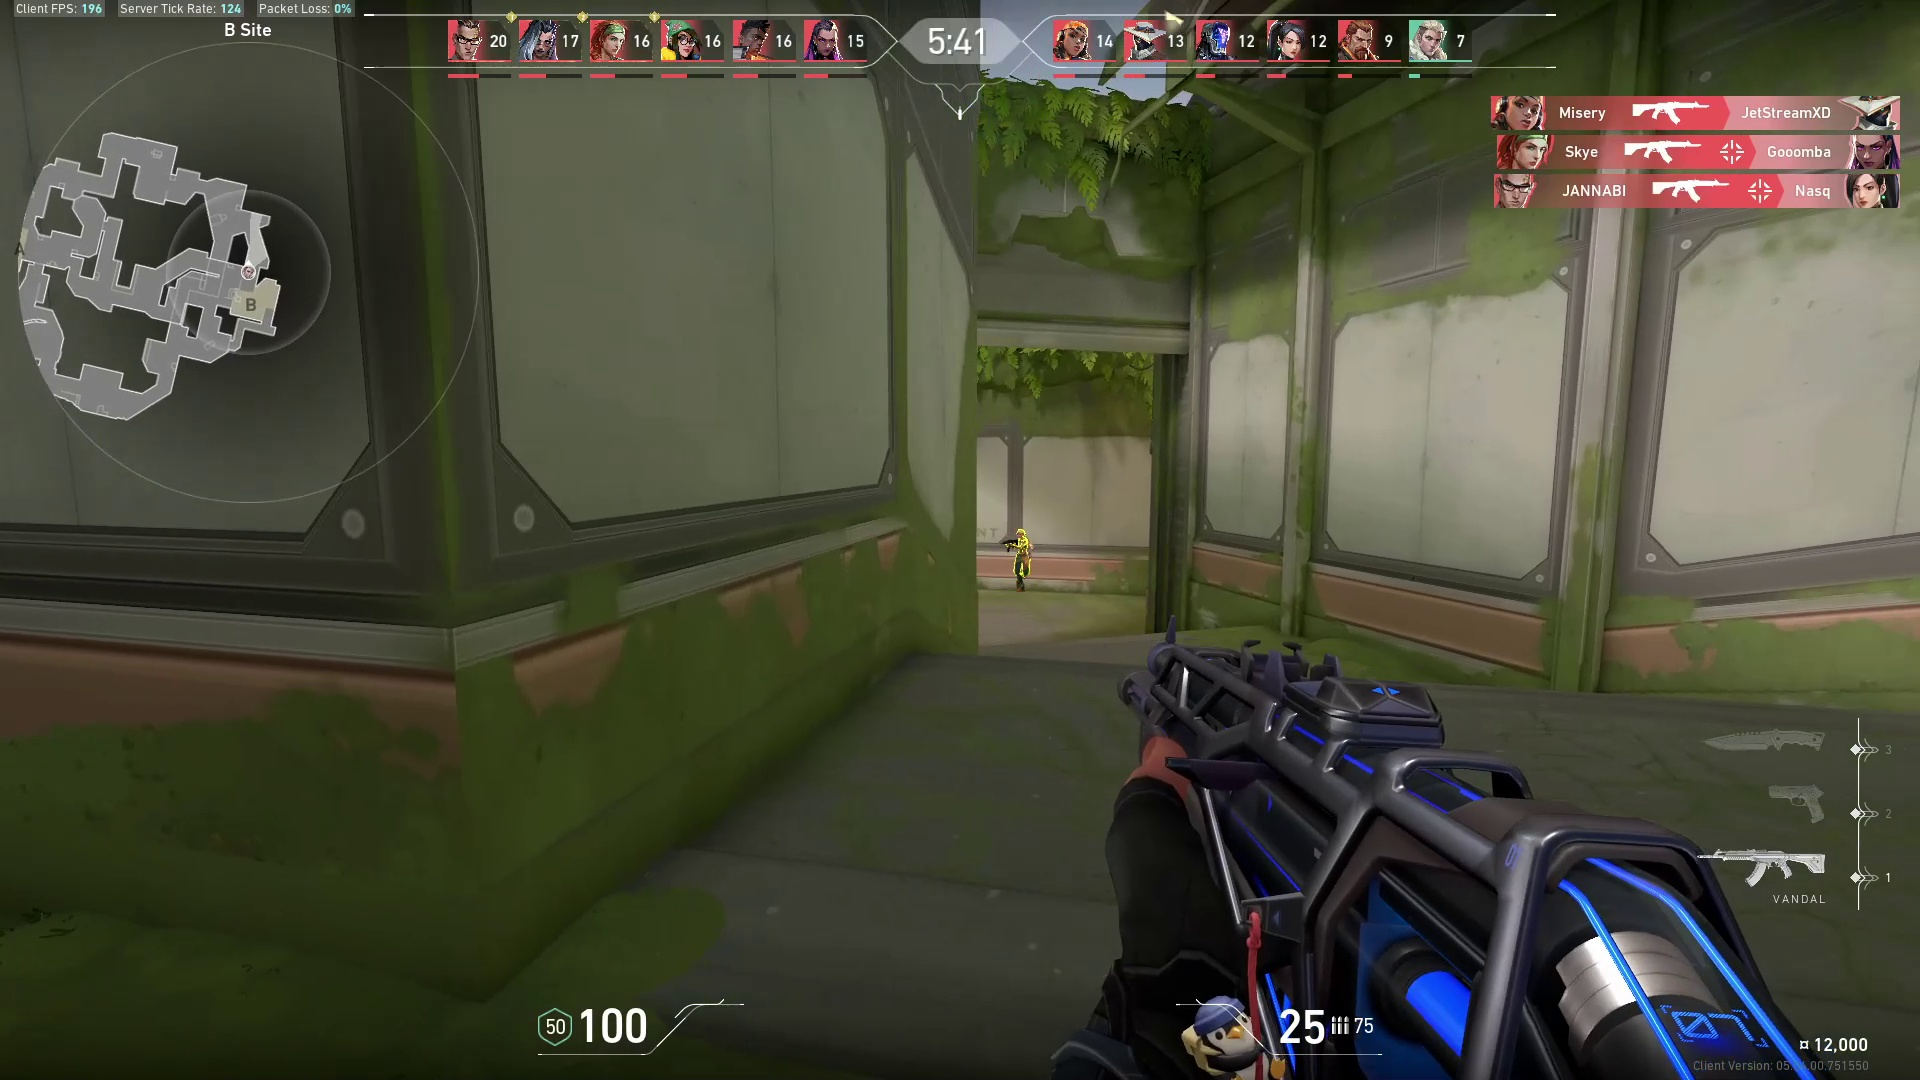enemy_body: (1004, 539, 1035, 595)
enemy_head: (1015, 526, 1027, 539)
